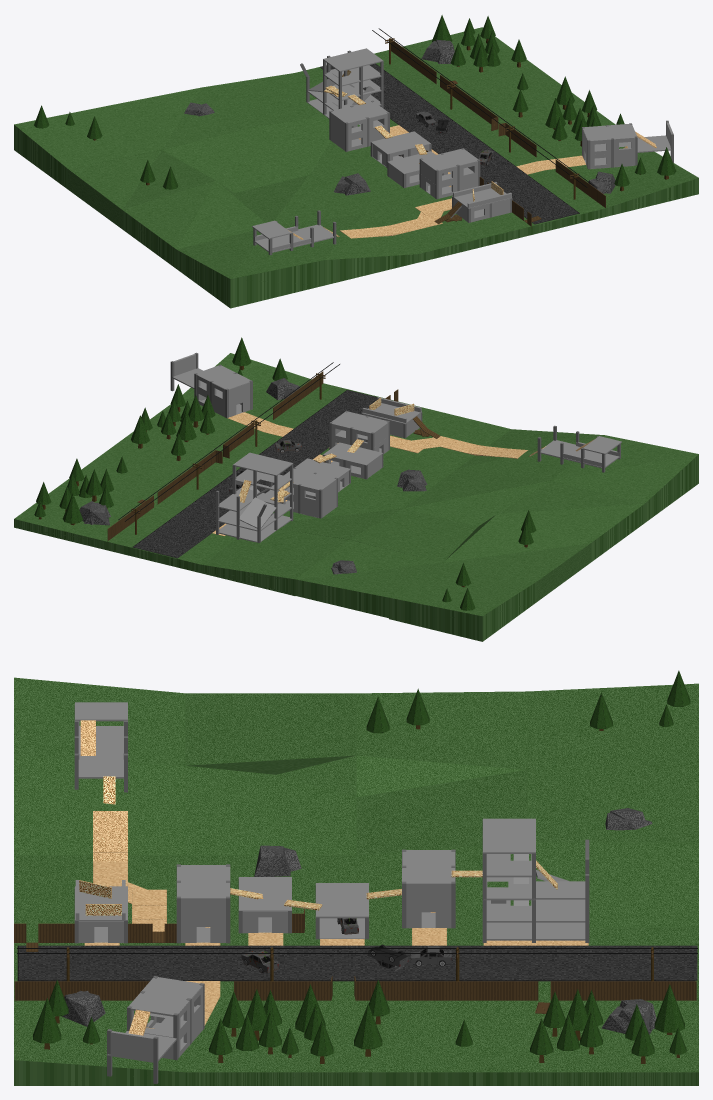
The model's file is map.gltf.
3 renders of one model, top to bottom at view 1: azimuth 30°, elevation 25°; view 2: azimuth 150°, elevation 25°; view 3: azimuth 270°, elevation 25°, orthographic. The views are drawn at different scales.
Visible parts, largest first — view 1: Ground (×20), road, Ground House (×9), Fences, Path, Rocks3, Rocks; view 2: Ground (×20), Ground House (×10), road, Fences, Path, Rocks3, Rocks, Rocks4; view 3: Ground (×20), Ground House (×17), road, Fences, Path, Door L (×4), Wall L (×3), cone (×3), line (×2), Rocks, Rocks3, Rocks4 (+1 smaller).
Boxes of the visible parts, box(x1,y1,x2,y2) form: Ground (×20): box(14, 27, 698, 308); road: box(320, 63, 579, 224); Ground House (×9): box(254, 48, 636, 252); Fences: box(391, 40, 605, 228); Path: box(340, 125, 585, 238); Rocks3: box(421, 39, 454, 63); Rocks: box(334, 173, 370, 195); Ground (×20): box(14, 353, 698, 641); Ground House (×10): box(196, 365, 619, 542); road: box(132, 390, 377, 558); Fences: box(107, 371, 440, 540); Path: box(212, 412, 527, 536); Rocks3: box(79, 501, 110, 525); Rocks: box(397, 469, 427, 491); Rocks4: box(266, 378, 300, 400); Ground (×20): box(14, 677, 698, 1085); Ground House (×17): box(75, 702, 585, 1016); road: box(17, 945, 697, 981); Fences: box(14, 909, 696, 1013); Path: box(84, 811, 588, 1025); Door L (×4): box(78, 906, 451, 942); Wall L (×3): box(110, 884, 451, 1060); cone (×3): box(33, 984, 684, 1049); line (×2): box(17, 948, 697, 953); Rocks: box(254, 845, 301, 876); Rocks3: box(601, 999, 656, 1034); Rocks4: box(62, 990, 105, 1026).
Size of the model in its own units: 1160 by 151 by 900.
25 materials, 25 textured.
